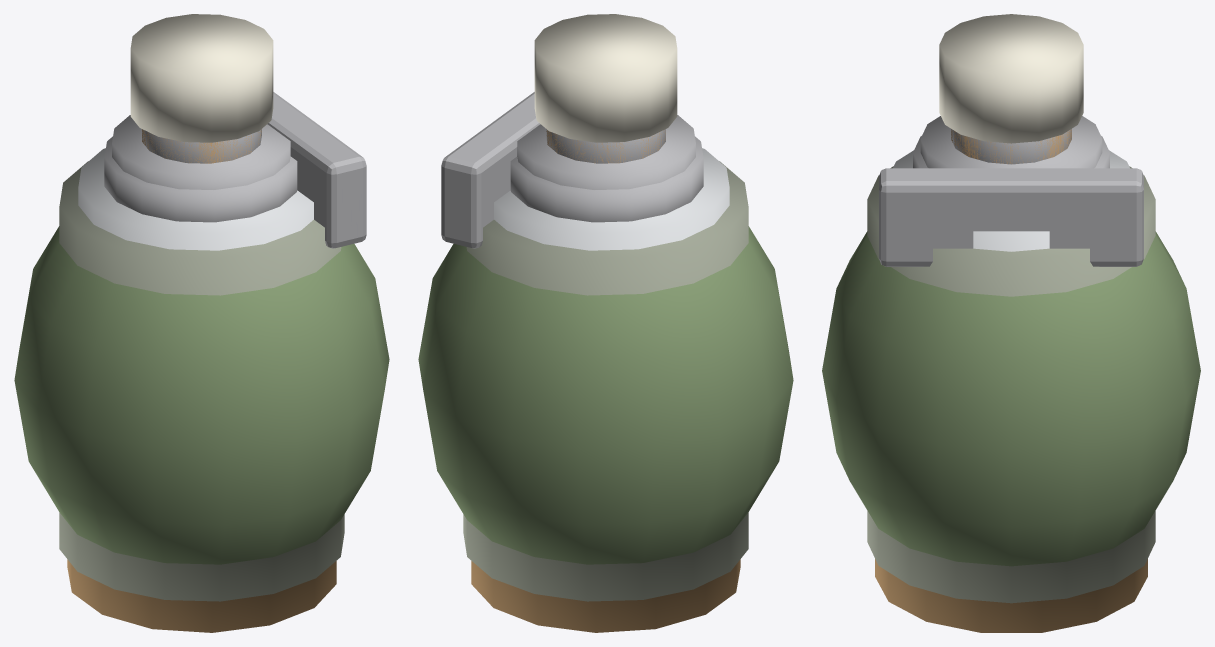
The model's file is nades.glb.
The picture shows the model from 3 angles, left to right: view 1: azimuth 30°, elevation 25°; view 2: azimuth 150°, elevation 25°; view 3: azimuth 270°, elevation 25°; orthographic projection.
Visible parts, largest first — view 1: he, smoke, molly, flash; view 2: he, smoke, molly, flash; view 3: he, molly, smoke, flash.
Part boxes in pixels (x1,y1,x2,y2): he: [14, 92, 389, 564]; smoke: [59, 136, 344, 601]; molly: [67, 14, 336, 632]; flash: [78, 115, 313, 250]; he: [418, 92, 793, 564]; smoke: [463, 136, 748, 601]; molly: [471, 14, 740, 632]; flash: [494, 115, 729, 250]; he: [822, 129, 1200, 566]; molly: [875, 14, 1147, 632]; smoke: [867, 136, 1155, 603]; flash: [893, 116, 1129, 251].
Size of the model in its own units: 10 by 15.75 by 10.
